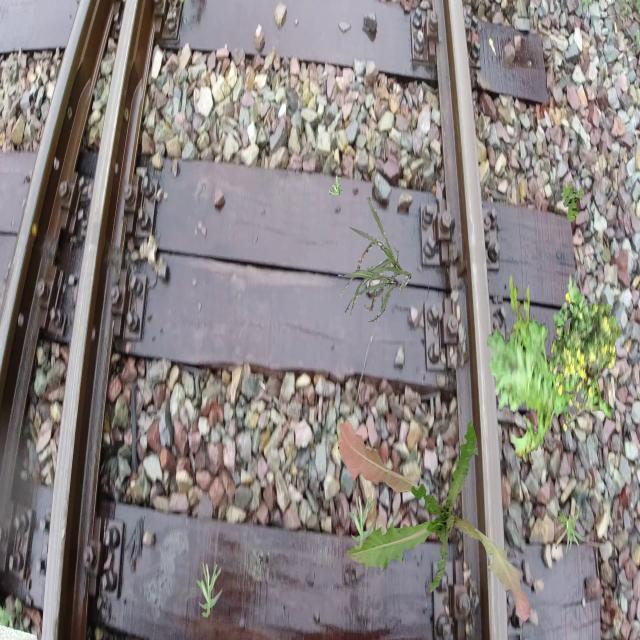Plant: (338, 419, 530, 622), (487, 270, 612, 466), (547, 292, 622, 432), (339, 197, 412, 322), (555, 509, 588, 555), (349, 494, 376, 550), (196, 562, 222, 618), (561, 182, 585, 223), (329, 175, 343, 195)
